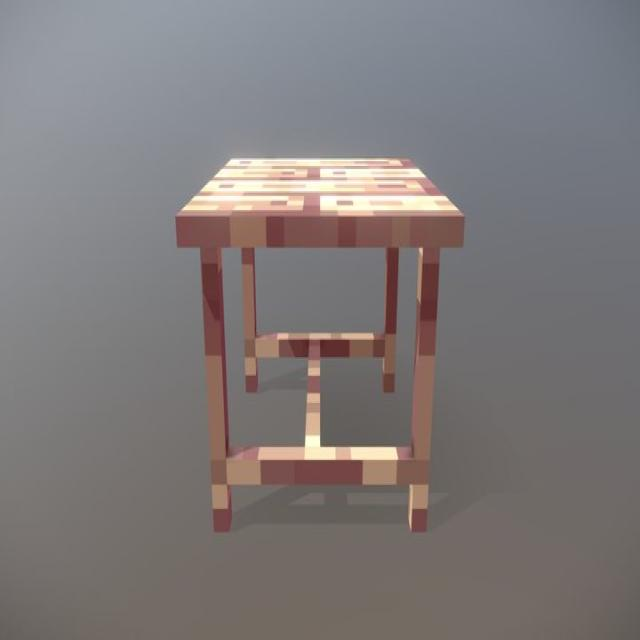table: (177, 153, 464, 531)
